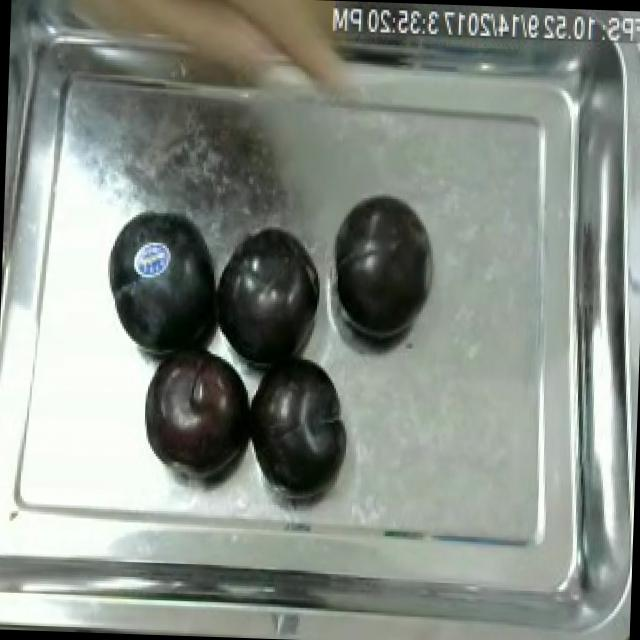Fruit: (98, 201, 228, 366), (204, 212, 326, 380), (323, 184, 441, 348), (238, 344, 357, 500), (136, 339, 262, 479)
